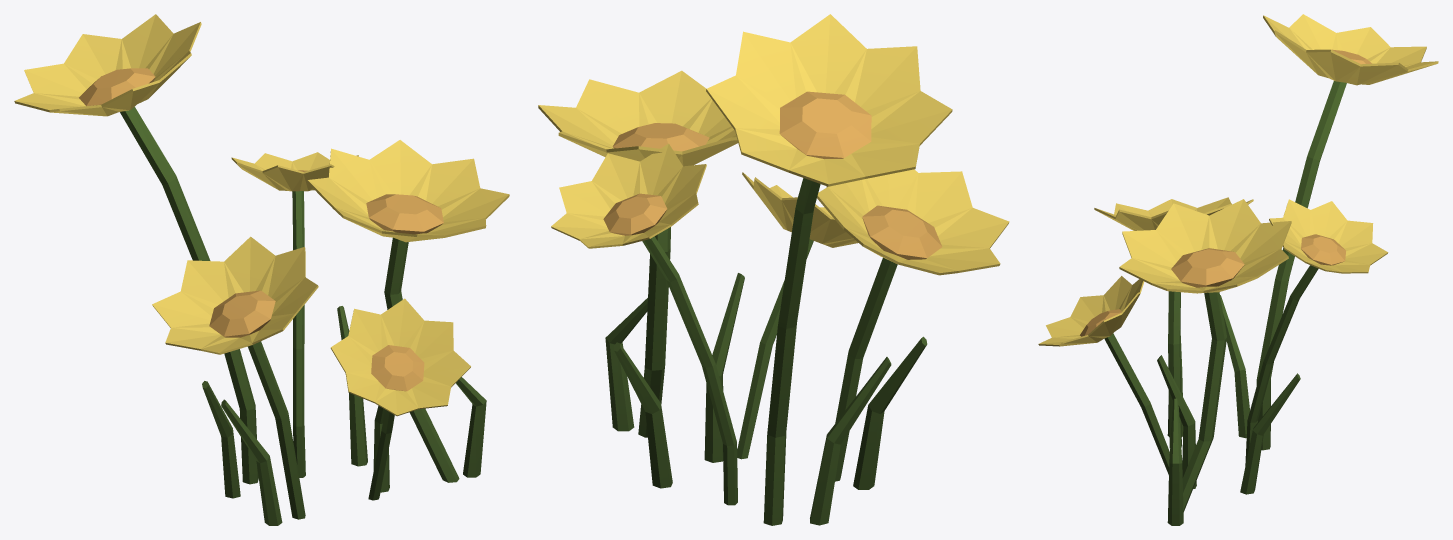
Rendered from Env_Flower_Patch_02.obj.
The picture shows the model from 3 angles, left to right: view 1: azimuth 30°, elevation 25°; view 2: azimuth 150°, elevation 25°; view 3: azimuth 270°, elevation 25°; orthographic projection. The views are drawn at different scales.
Visible parts, largest first — view 1: Env_Flower_Patch_02; view 2: Env_Flower_Patch_02; view 3: Env_Flower_Patch_02.
Boxes of the visible parts, left/top/right/bottom form: Env_Flower_Patch_02: left=14, top=14, right=509, bottom=525; Env_Flower_Patch_02: left=538, top=14, right=1009, bottom=525; Env_Flower_Patch_02: left=1038, top=14, right=1438, bottom=525.
Bounding box in the file's own units: 0.471 × 0.5093 × 0.4696.
1 material, 1 textured.
